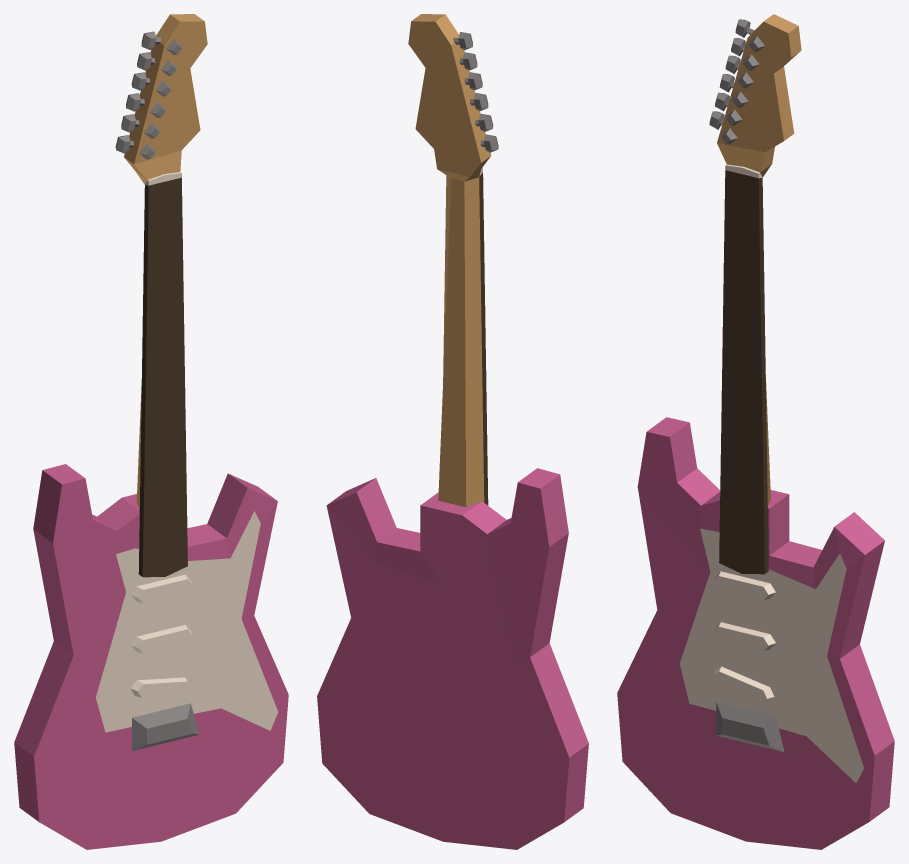
File: music-guitar-electric-country.glb
The picture shows the model from 3 angles, left to right: view 1: azimuth 30°, elevation 25°; view 2: azimuth 150°, elevation 25°; view 3: azimuth 330°, elevation 25°; orthographic projection. The views are drawn at different scales.
Parts seen in each view (by area): view 1: guitar-electric-country; view 2: guitar-electric-country; view 3: guitar-electric-country.
Boxes of the visible parts, <box> form: guitar-electric-country: <box>14,14,288,849</box>; guitar-electric-country: <box>317,14,588,849</box>; guitar-electric-country: <box>617,14,894,849</box>.
Bounding box in the file's own units: 0.3288 × 1.01 × 0.0556.
